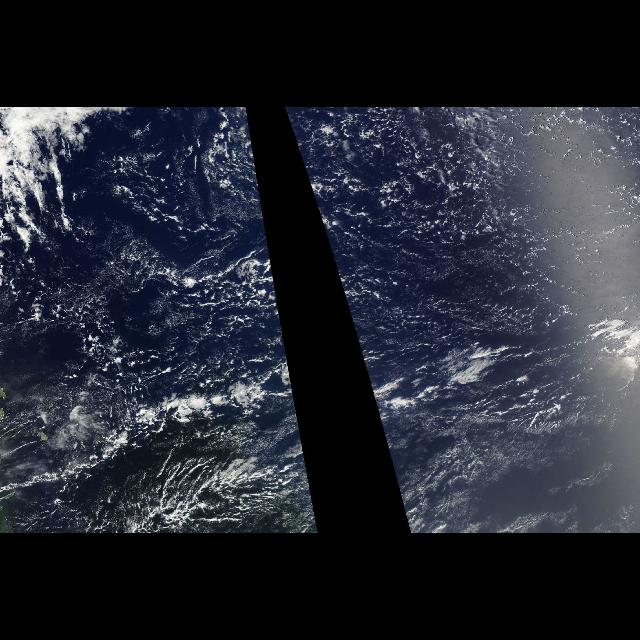Fish: (3, 371, 320, 534)
Gravel: (283, 108, 639, 394), (28, 108, 294, 394)
Sugar: (374, 400, 636, 530), (275, 400, 319, 530)
